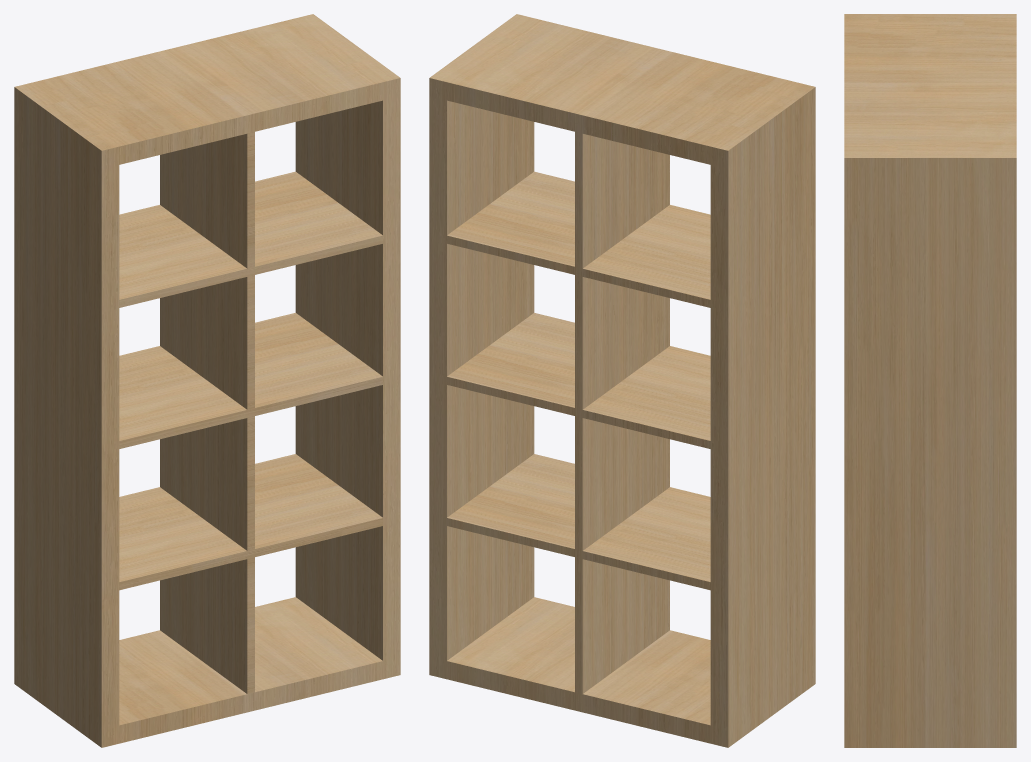
Rendered from shelf-transformed.glb.
The picture shows the model from 3 angles, left to right: view 1: azimuth 30°, elevation 25°; view 2: azimuth 150°, elevation 25°; view 3: azimuth 270°, elevation 25°; orthographic projection.
Parts seen in each view (by area): view 1: Line001; view 2: Line001; view 3: Line001.
Boxes of the visible parts, bbox=[...] form: Line001: bbox=[14, 14, 400, 747]; Line001: bbox=[429, 14, 815, 747]; Line001: bbox=[844, 14, 1016, 747].
Bounding box in the file's own units: 19.56 × 37.34 × 9.9.
1 material, 1 textured.
